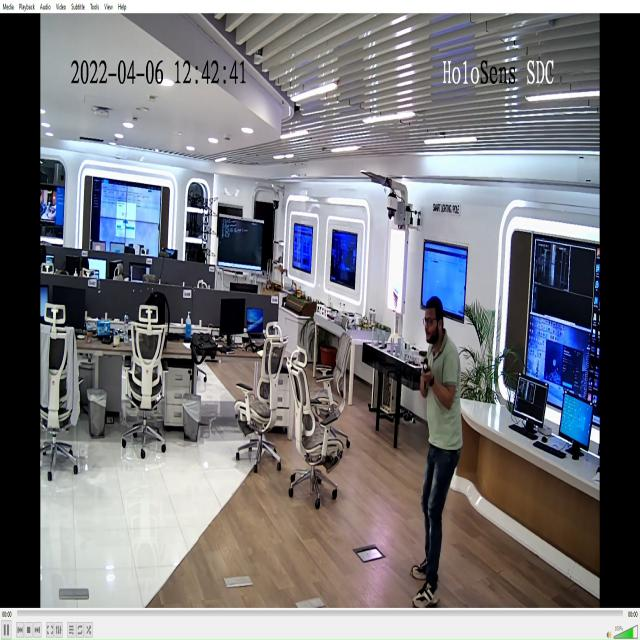long weapon: (417, 347, 438, 401)
